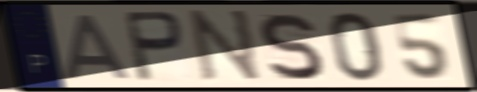0: (327, 9, 387, 83)
5: (389, 11, 453, 83)
A: (63, 12, 136, 82)
N: (188, 8, 263, 86)
P: (120, 8, 187, 84)
S: (255, 10, 326, 82)
